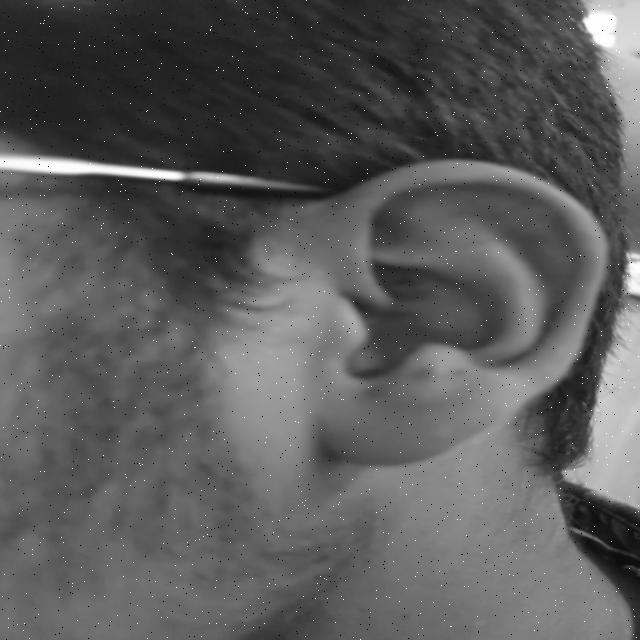ear: (312, 160, 604, 464), (327, 326, 339, 334)
